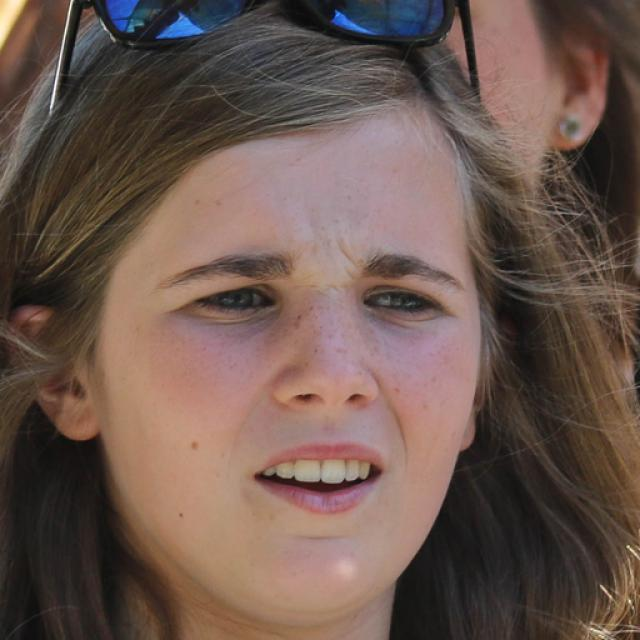Pigmentation: (276, 296, 387, 361)
